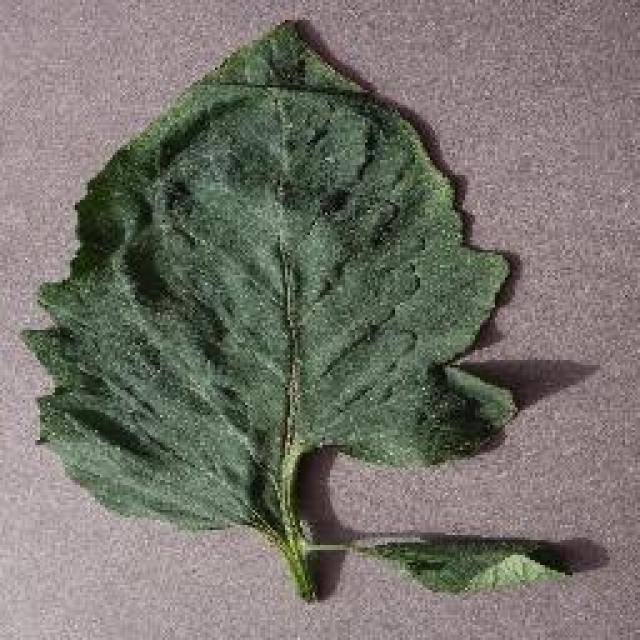Tomato Septoria spot leaf: (26, 21, 509, 534), (359, 530, 576, 600)
